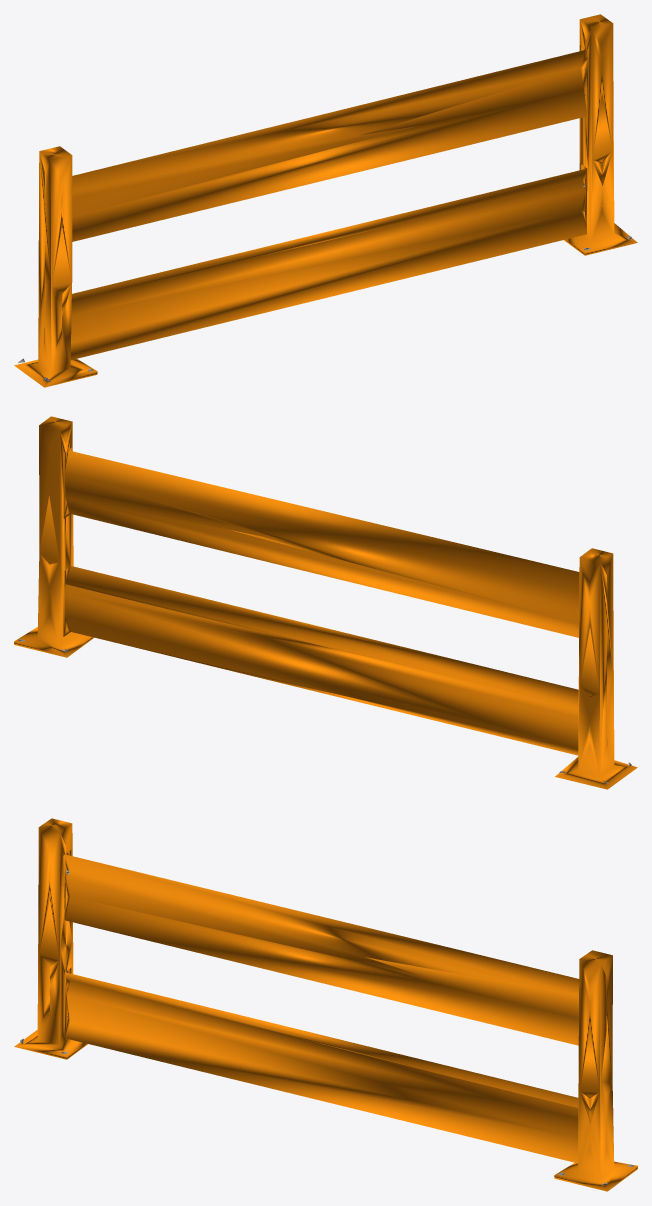
Rendered from railguard.glb.
3 views of the same model, one above another, from view 1: azimuth 30°, elevation 25°; view 2: azimuth 150°, elevation 25°; view 3: azimuth 330°, elevation 25° (orthographic).
Parts seen in each view (by area): view 1: body; view 2: body; view 3: body.
Part boxes in pixels (<box>): body: <box>14,14,637,387</box>; body: <box>14,416,637,789</box>; body: <box>14,818,637,1191</box>.
Bounding box in the file's own units: 2.78 × 0.9703 × 0.2488.
Materials: 2 (1 with a texture image).
